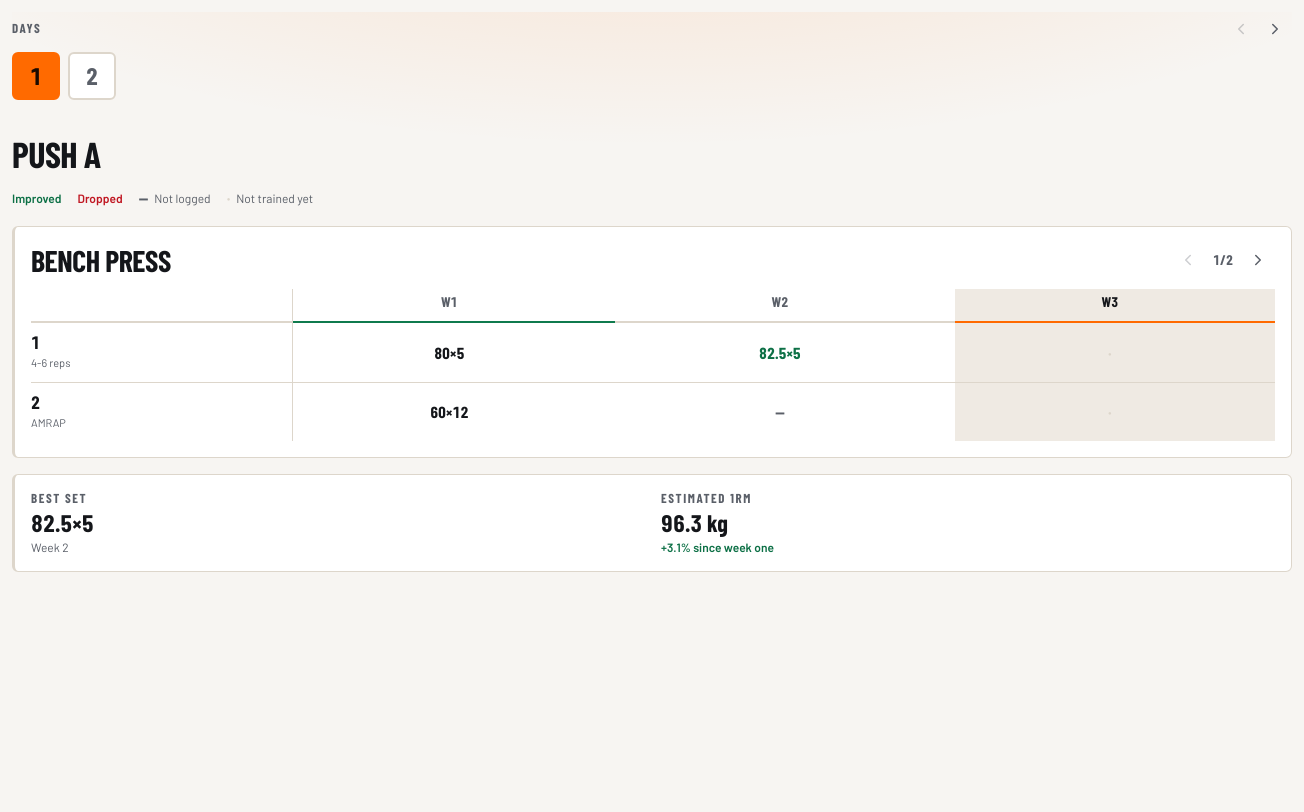
Test: RoutineHistory › keeps each day on the exercise it was left on, and hides a pager of one
What coordinates should you click on to do the following:
click the button named "Next exercise"
I would click on:
 (1258, 260)
Its box is left=1241, top=243, right=1275, bottom=277.
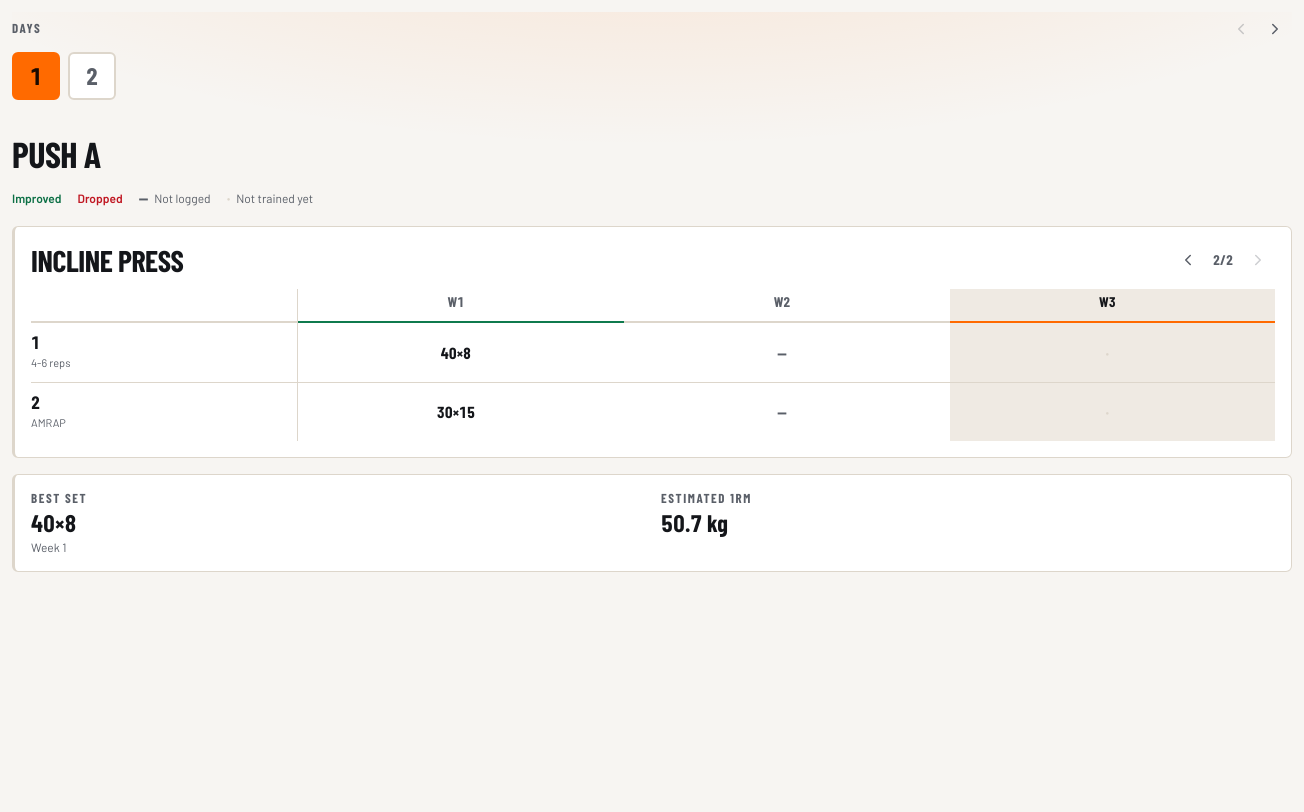
What coordinates should you click on to do the following:
click the tab "2"
I would click on:
 (92, 76)
Its box is left=68, top=52, right=116, bottom=100.
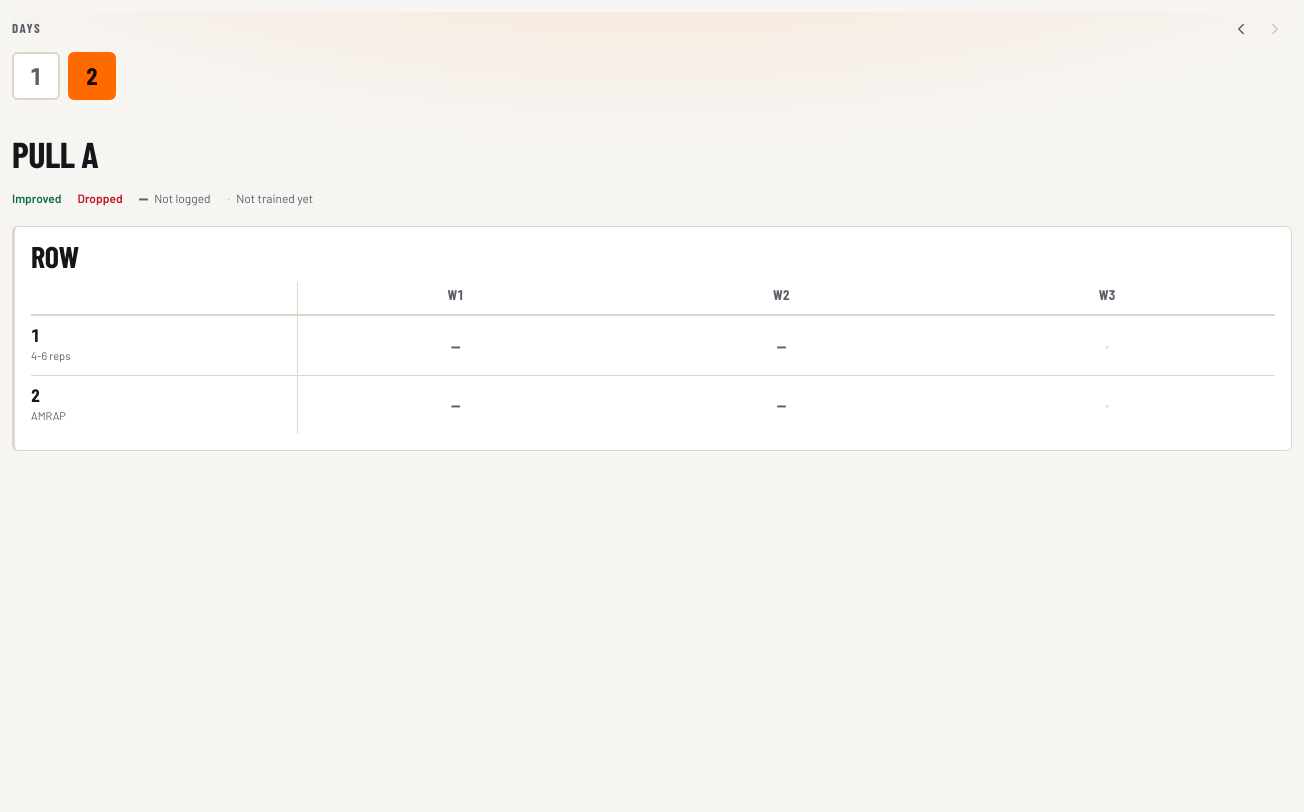
Now the heading "Row" is shown, box left=31, top=243, right=79, bottom=270
What coordinates should you click on to do the following:
click the tab "1"
I would click on:
 (36, 76)
Its box is left=12, top=52, right=60, bottom=100.
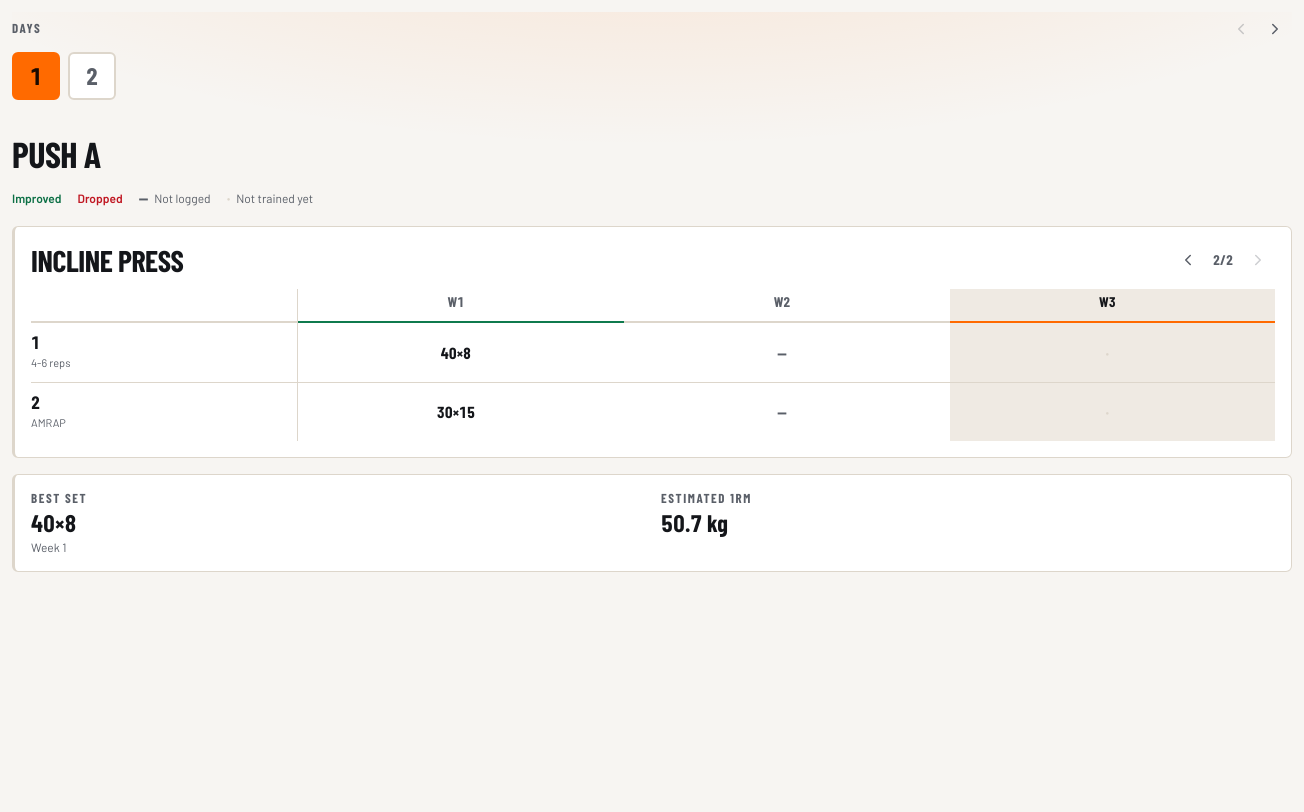
Now the heading "Incline press" is shown, box left=31, top=247, right=184, bottom=274
